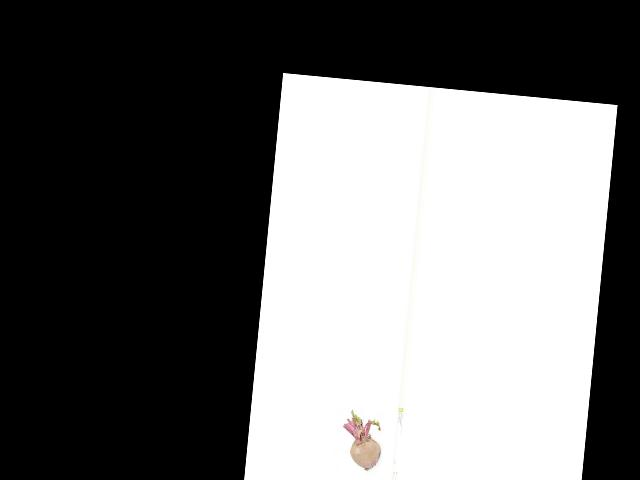beet: (339, 410, 383, 472)
